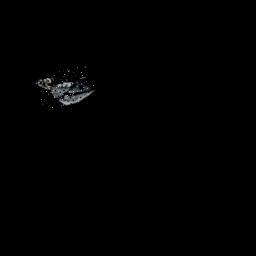boat: (32, 62, 98, 113)
